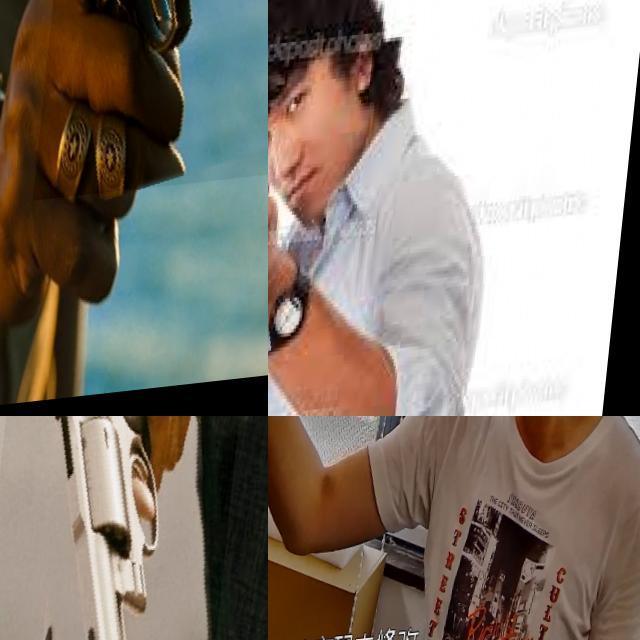gun-knife-thesis - v11 Yolov5 augmented: (0, 416, 268, 640), (42, 0, 268, 208), (268, 97, 382, 406), (268, 416, 330, 539)
